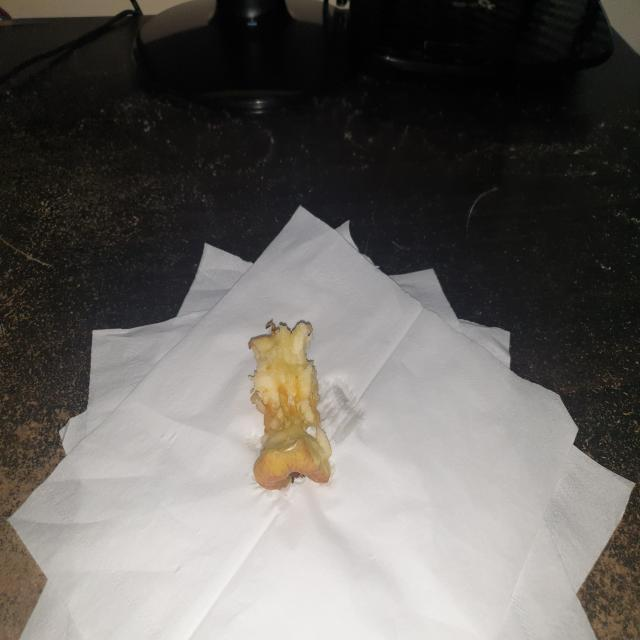apple: (230, 306, 351, 496)
